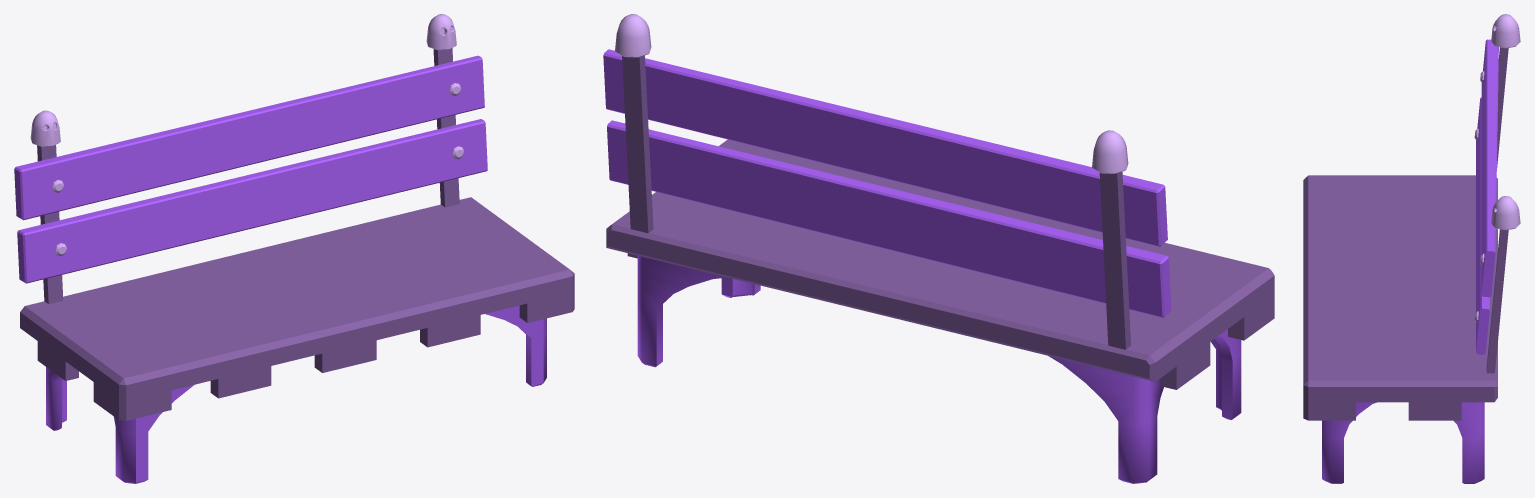
File: NewBench.fbx
3 views of the same model, side by side, from view 1: azimuth 30°, elevation 25°; view 2: azimuth 150°, elevation 25°; view 3: azimuth 270°, elevation 25° (orthographic). The views are drawn at different scales.
Visible parts, largest first — view 1: NewBench_LOD0; view 2: NewBench_LOD0; view 3: NewBench_LOD0.
Part boxes in pixels (box(x1,y1,x2,y2)): NewBench_LOD0: box(14, 14, 574, 483); NewBench_LOD0: box(603, 14, 1274, 483); NewBench_LOD0: box(1303, 14, 1520, 483).
Size of what is drawn, in the model's own units: 408 by 253 by 176.
